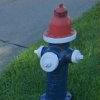a fire hydrant: (32, 8, 82, 100)
